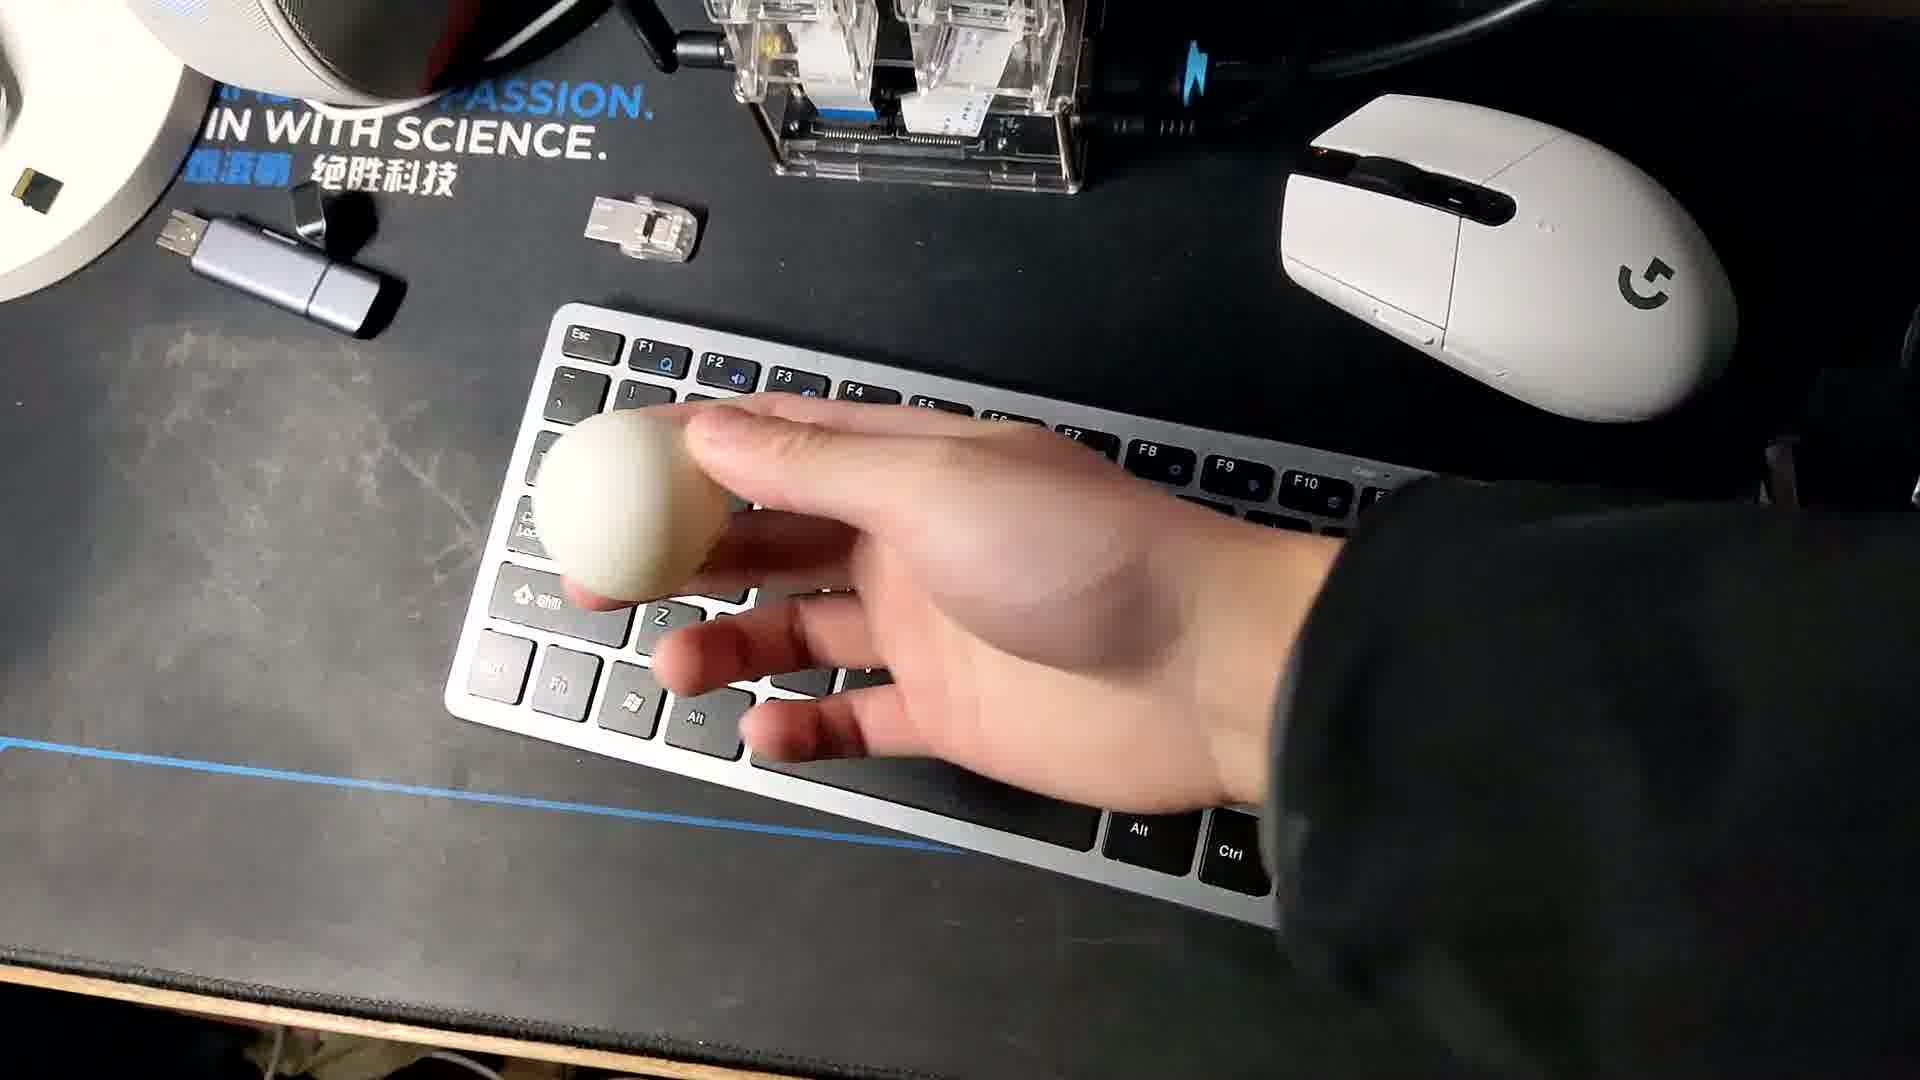Ball: (535, 411, 735, 603)
